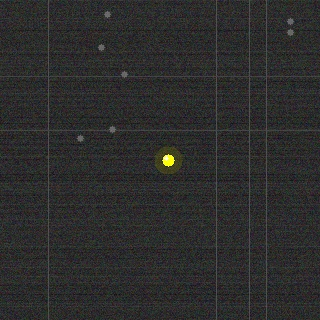yellow_warning: (160, 152, 176, 168)
